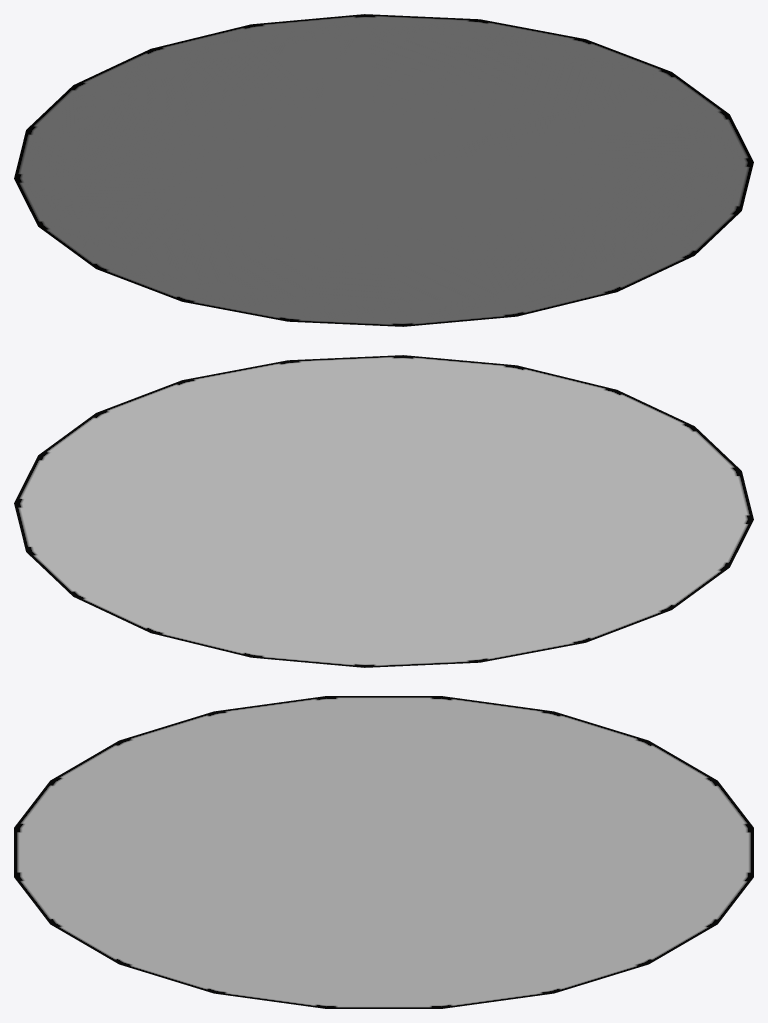
The picture shows the model from 3 angles, top to bottom: view 1: azimuth 30°, elevation 25°; view 2: azimuth 150°, elevation 25°; view 3: azimuth 270°, elevation 25°; orthographic projection.
Visible parts, largest first — view 1: Joint_0_Object_0; view 2: Joint_0_Object_0; view 3: Joint_0_Object_0.
Part boxes in pixels (x1,y1,x2,y2): Joint_0_Object_0: [14, 14, 753, 326]; Joint_0_Object_0: [14, 355, 753, 667]; Joint_0_Object_0: [14, 696, 753, 1008].
Bounding box in the file's own units: 256 × 9.16e-05 × 256.
1 material, 1 textured.
